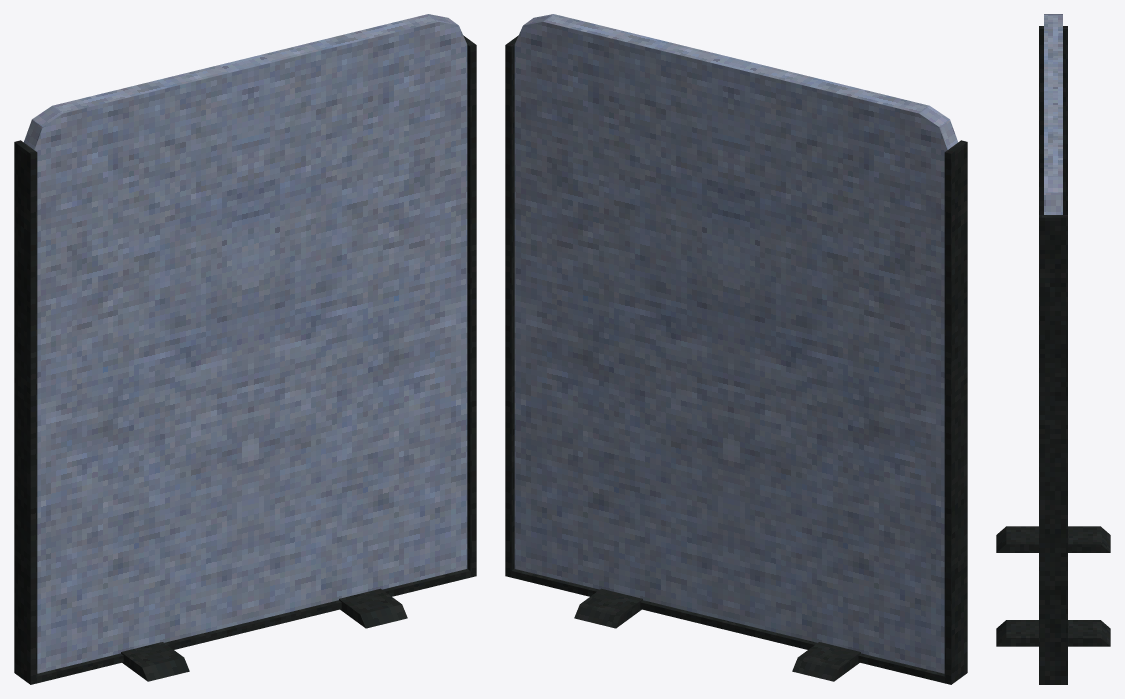
File: divider_black_blue_half.glb
3 renders of one model, left to right at view 1: azimuth 30°, elevation 25°; view 2: azimuth 150°, elevation 25°; view 3: azimuth 270°, elevation 25°, orthographic. The views are drawn at different scales.
Visible parts, largest first — view 1: divider_black_blue_half; view 2: divider_black_blue_half; view 3: divider_black_blue_half.
Boxes of the visible parts, <box> form: divider_black_blue_half: <box>14,14,476,684</box>; divider_black_blue_half: <box>505,14,967,684</box>; divider_black_blue_half: <box>996,14,1110,684</box>.
Size of the model in its own units: 2.07 by 2.5 by 0.523.
Materials: 1 (1 with a texture image).
